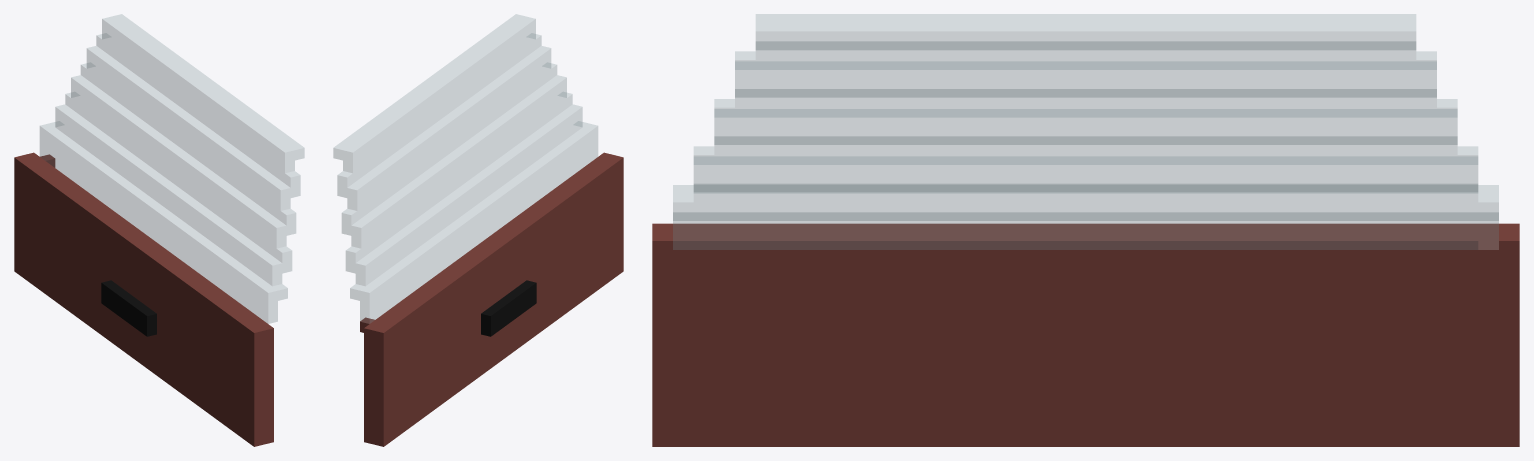
File: estate_tailgate.glb
3 renders of one model, left to right at view 1: azimuth 30°, elevation 25°; view 2: azimuth 150°, elevation 25°; view 3: azimuth 270°, elevation 25°, orthographic. The views are drawn at different scales.
Visible parts, largest first — view 1: body:compound; view 2: body:compound; view 3: body:compound.
Boxes of the visible parts, left/top/right/bottom form: body:compound: left=14, top=14, right=304, bottom=446; body:compound: left=333, top=14, right=623, bottom=446; body:compound: left=652, top=14, right=1519, bottom=446.
Size of the model in its own units: 0.2812 by 0.7812 by 1.31.
